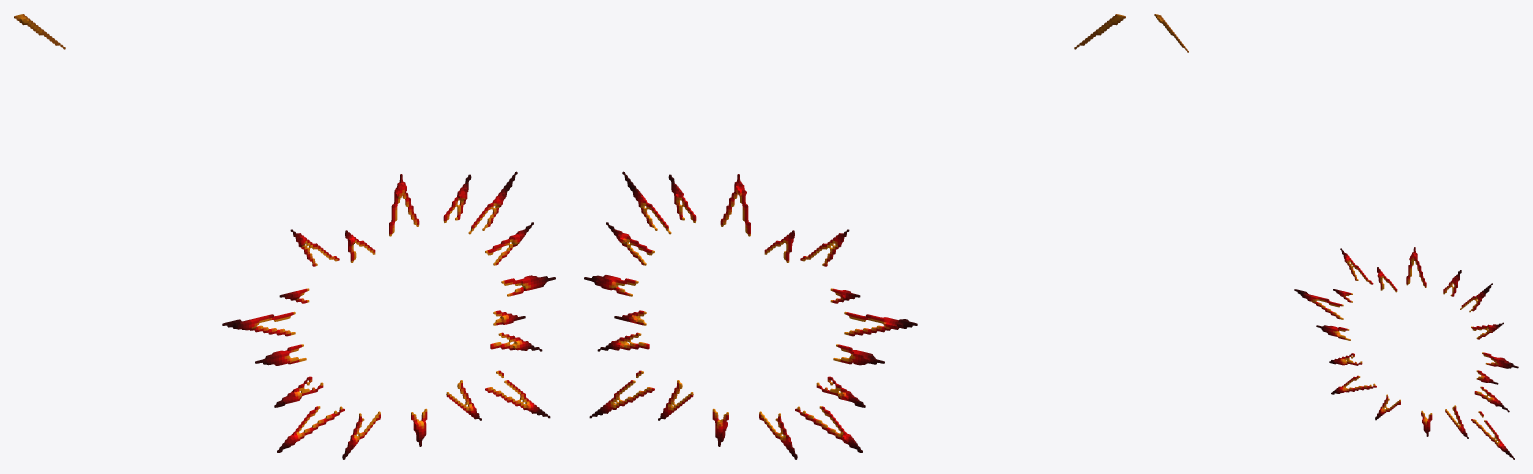
File: Fight_740_2_18.obj
3 renders of one model, left to right at view 1: azimuth 30°, elevation 25°; view 2: azimuth 150°, elevation 25°; view 3: azimuth 330°, elevation 25°, orthographic. The views are drawn at different scales.
Size of the model in its own units: 19.76 by 18.56 by 0.3.
